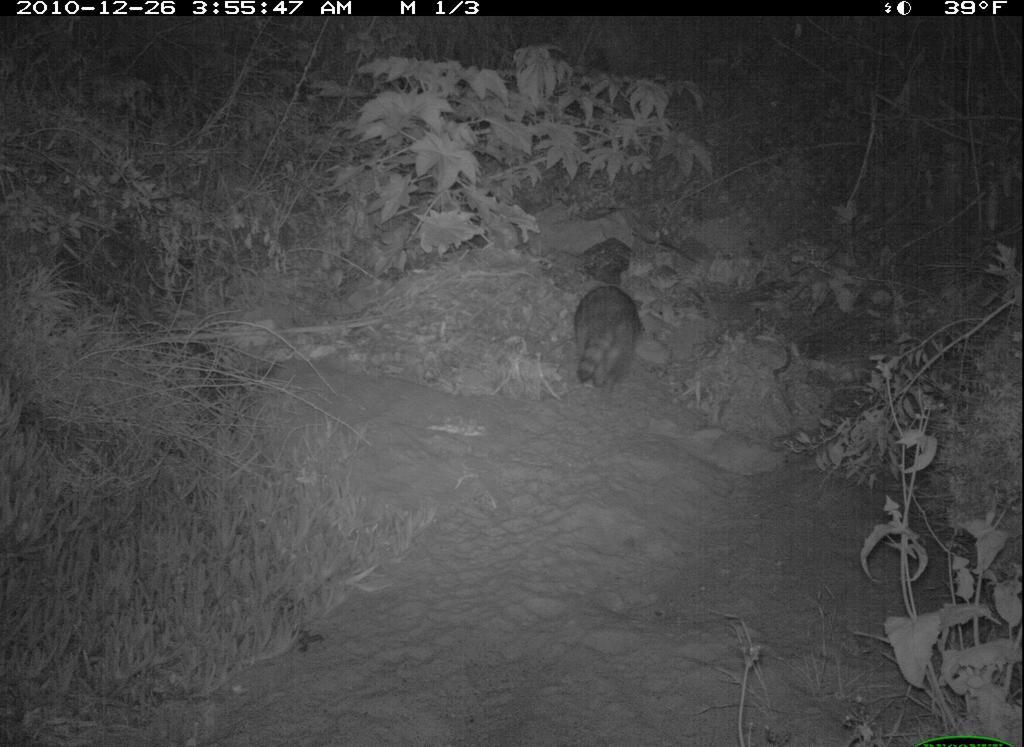raccoon: (565, 280, 649, 401)
